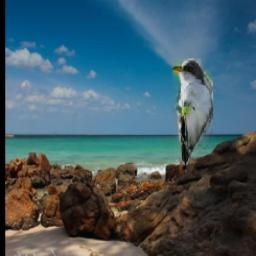Cuckoo: (171, 58, 212, 165)
